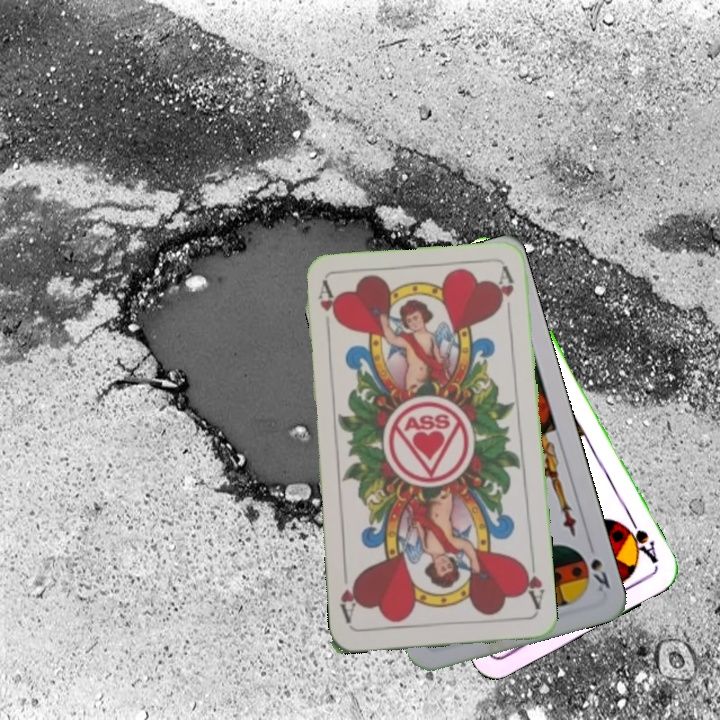HA: (518, 554, 547, 612), (314, 278, 341, 337)
SA: (617, 513, 661, 567)
SK: (586, 554, 613, 595)
